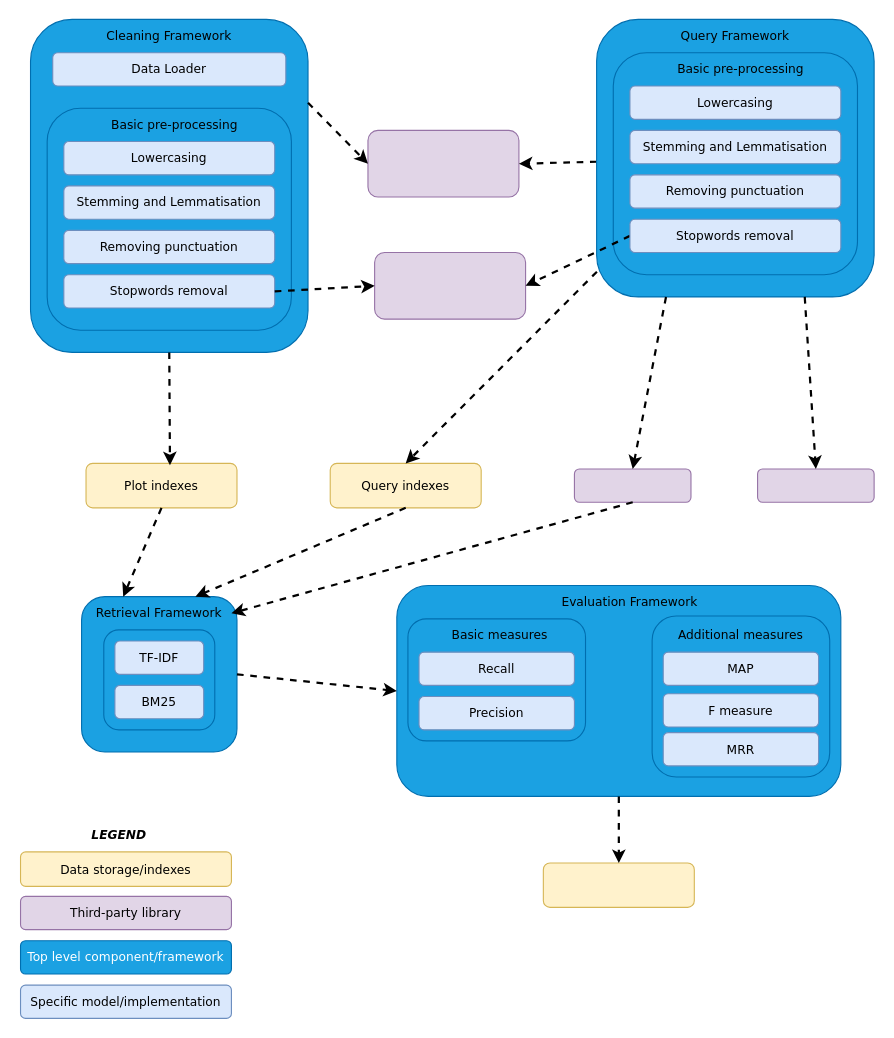
This 894x1038 diagram has some shape labels left out. Here are the shapes that lost their labels. From the top down, the centre of each, then its label:
At (x=443, y=163): "NLTK and spaCy".
At (x=450, y=285): "WordNet API".
At (x=632, y=485): "PyLucene".
At (x=815, y=485): "ElasticSearch".
At (x=618, y=884): "Evaluation Results".
